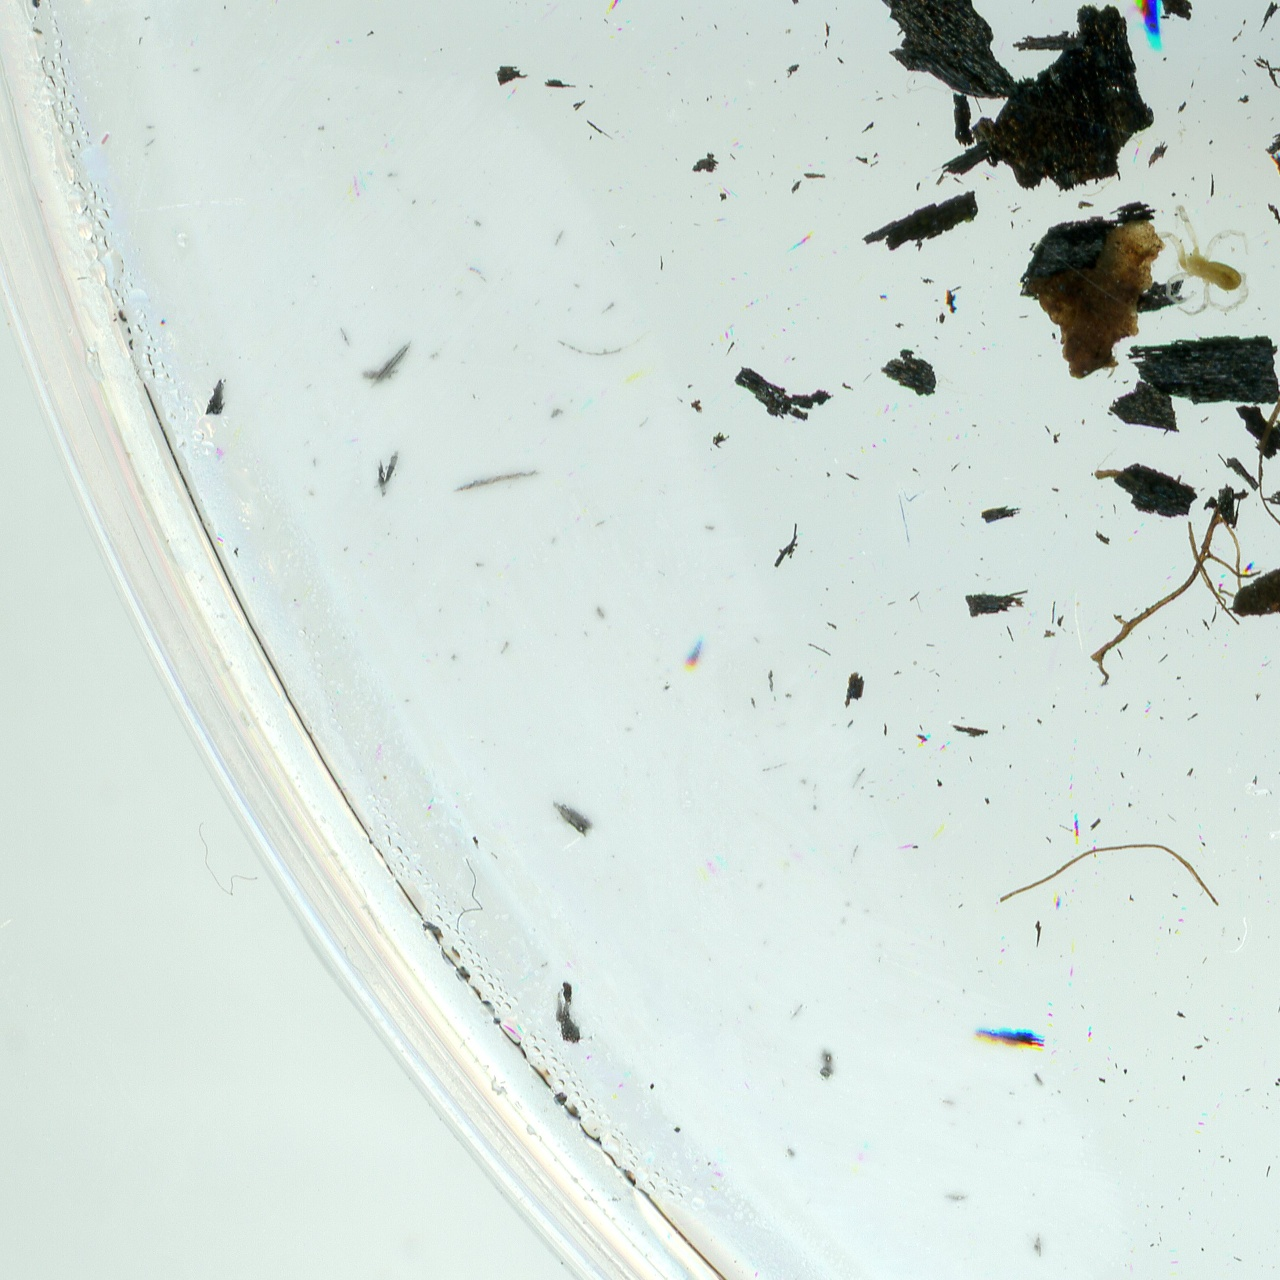arthropod: (1150, 202, 1257, 316), (1111, 0, 1170, 56)
